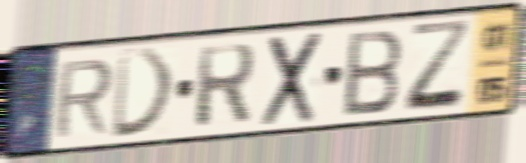B: (341, 26, 405, 119)
D: (109, 45, 179, 142)
R: (193, 40, 258, 131), (51, 55, 117, 141)
X: (258, 28, 326, 131)
Z: (402, 16, 475, 115)
